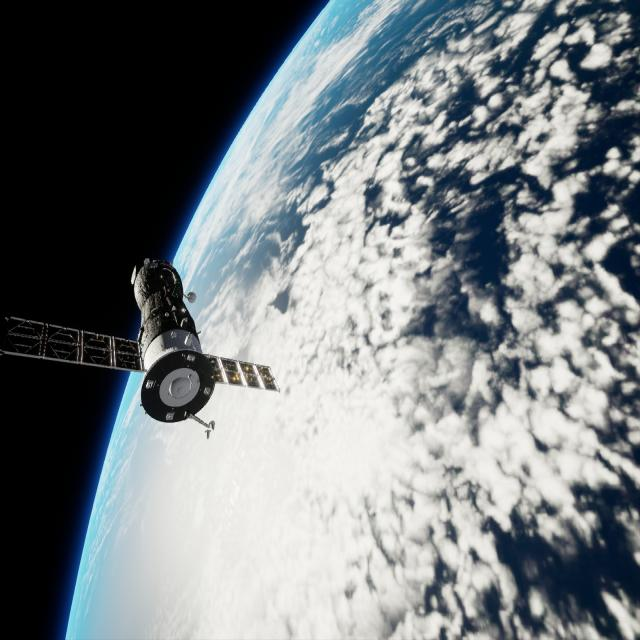Satellites revolving around earth: (64, 1, 638, 638)
